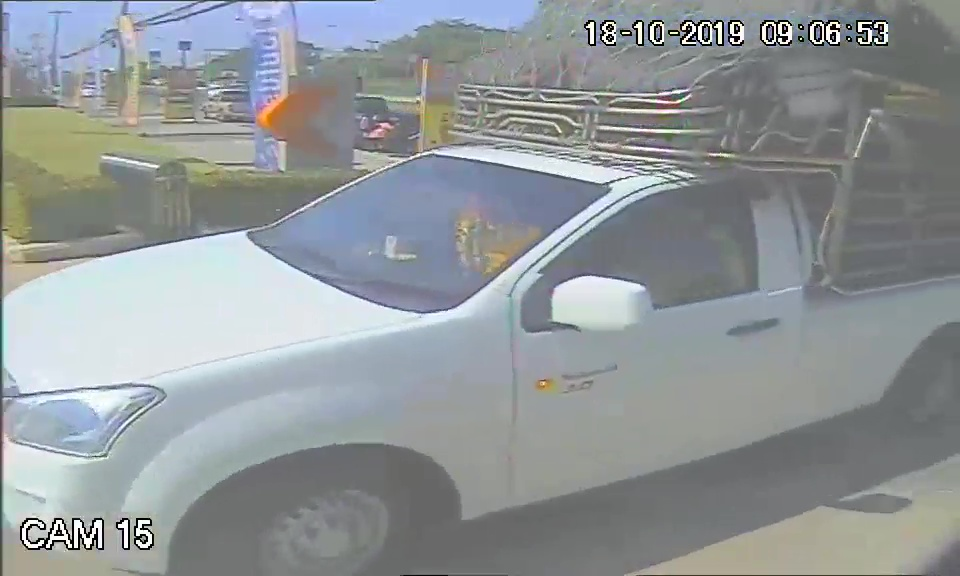pickup: (4, 141, 843, 516)
